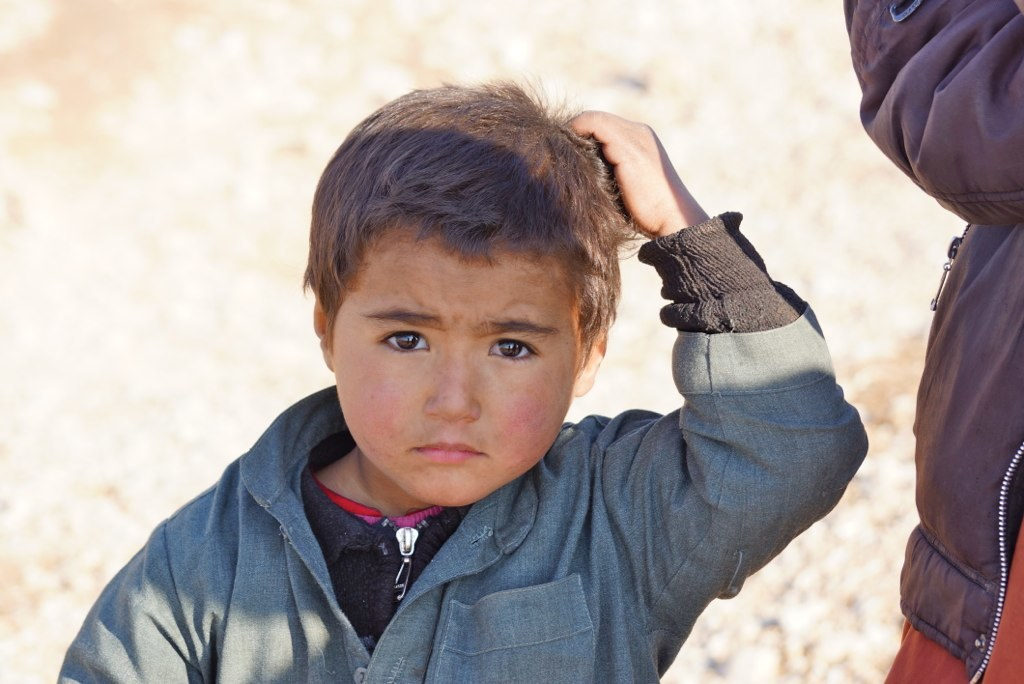Human_hand: (604, 105, 676, 238)
